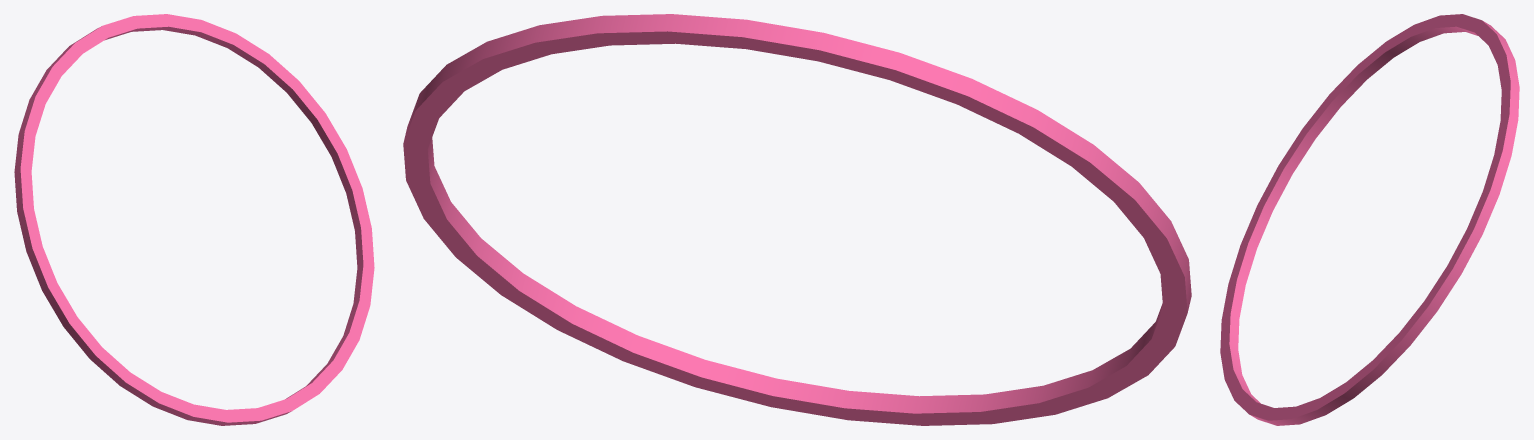
The model's file is Ring_3.glb.
3 views of the same model, side by side, from view 1: azimuth 30°, elevation 25°; view 2: azimuth 150°, elevation 25°; view 3: azimuth 270°, elevation 25° (orthographic). The views are drawn at different scales.
Visible parts, largest first — view 1: Ring_3; view 2: Ring_3; view 3: Ring_3.
Part boxes in pixels (x1,y1,x2,y2): Ring_3: (14,14,374,425); Ring_3: (403,14,1191,425); Ring_3: (1220,14,1519,425).
Bounding box in the file's own units: 7.87 × 6.52 × 5.23.
